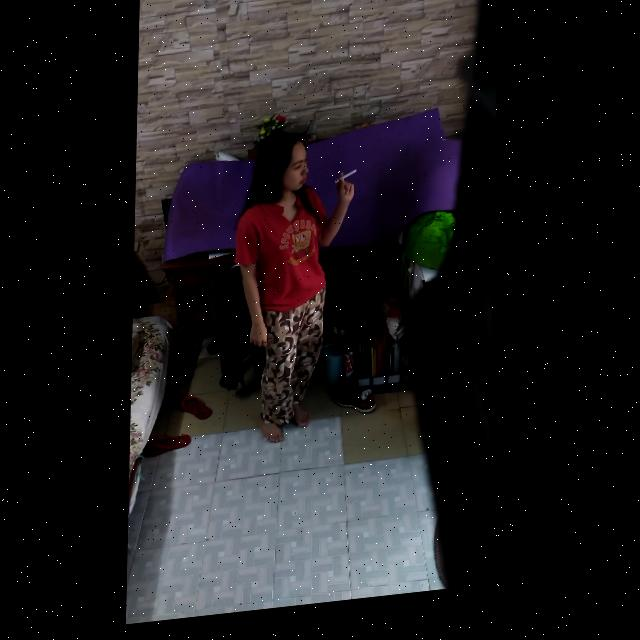cigarette: (337, 177, 358, 191)
